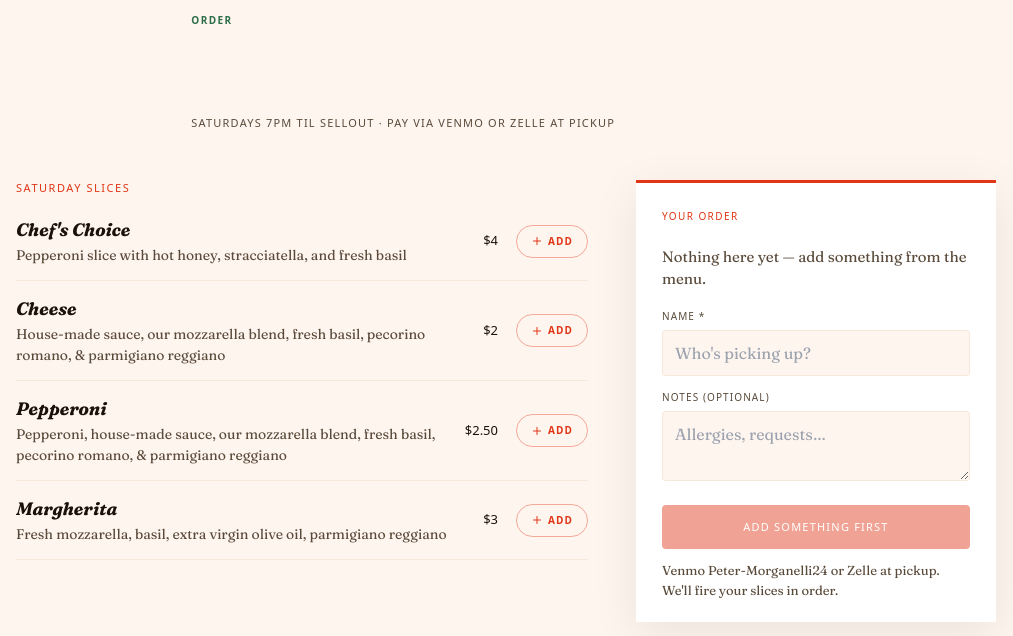
Test case: OrderPage › add-on chips › renders exactly one chip per add-on, one unit per slice
Expected: the text "Chef's Choice" is shown, [16,218,130,241]
Click the button "Add" next to "$4" at (552, 241), box [516,224,588,258]
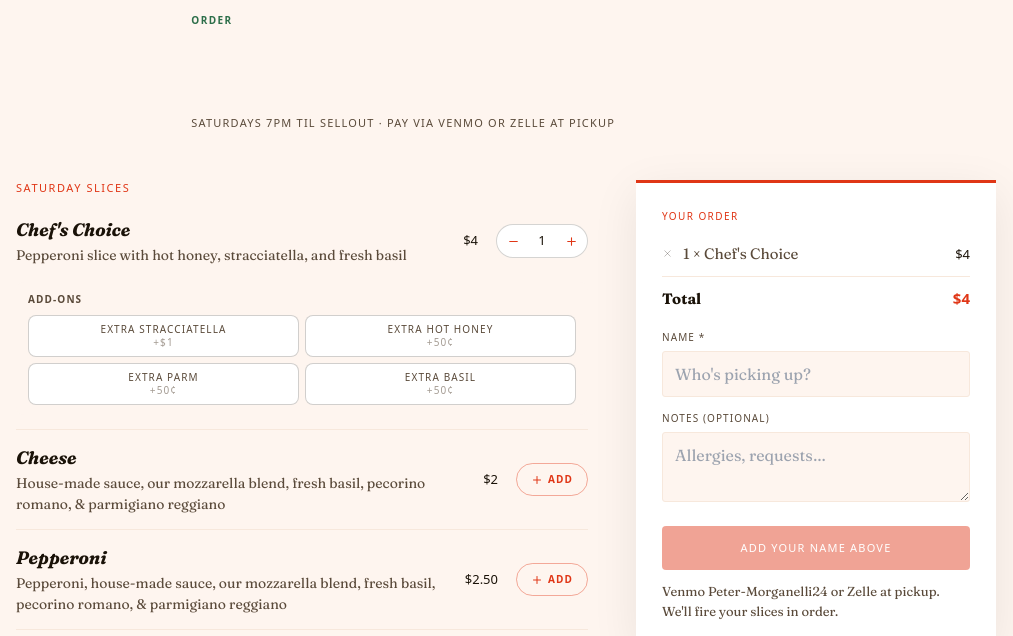
Expected: the number of elements with class "addon-unit" is 1, [16,282,588,415]
Expected: the number of buttons with class "addon-chip" is 4, [28,315,299,357]; [305,315,576,357]; [28,363,299,405]; [305,363,576,405]
Click the button named "Add one" at (571, 241), box [555,225,587,257]
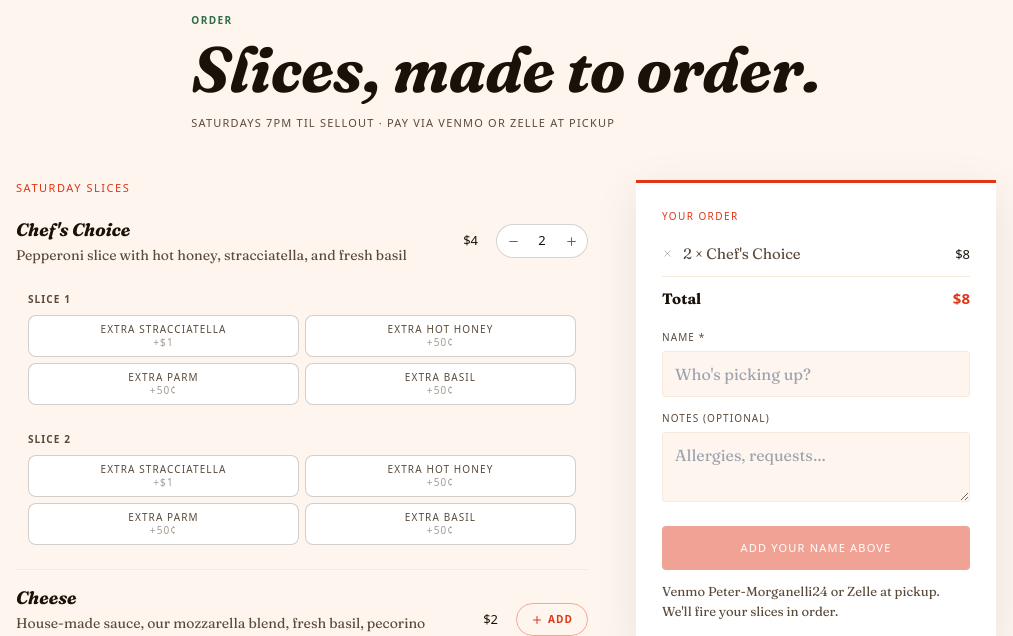
Expected: the number of elements with class "addon-unit" is 2, [16,282,588,415]; [16,422,588,555]
